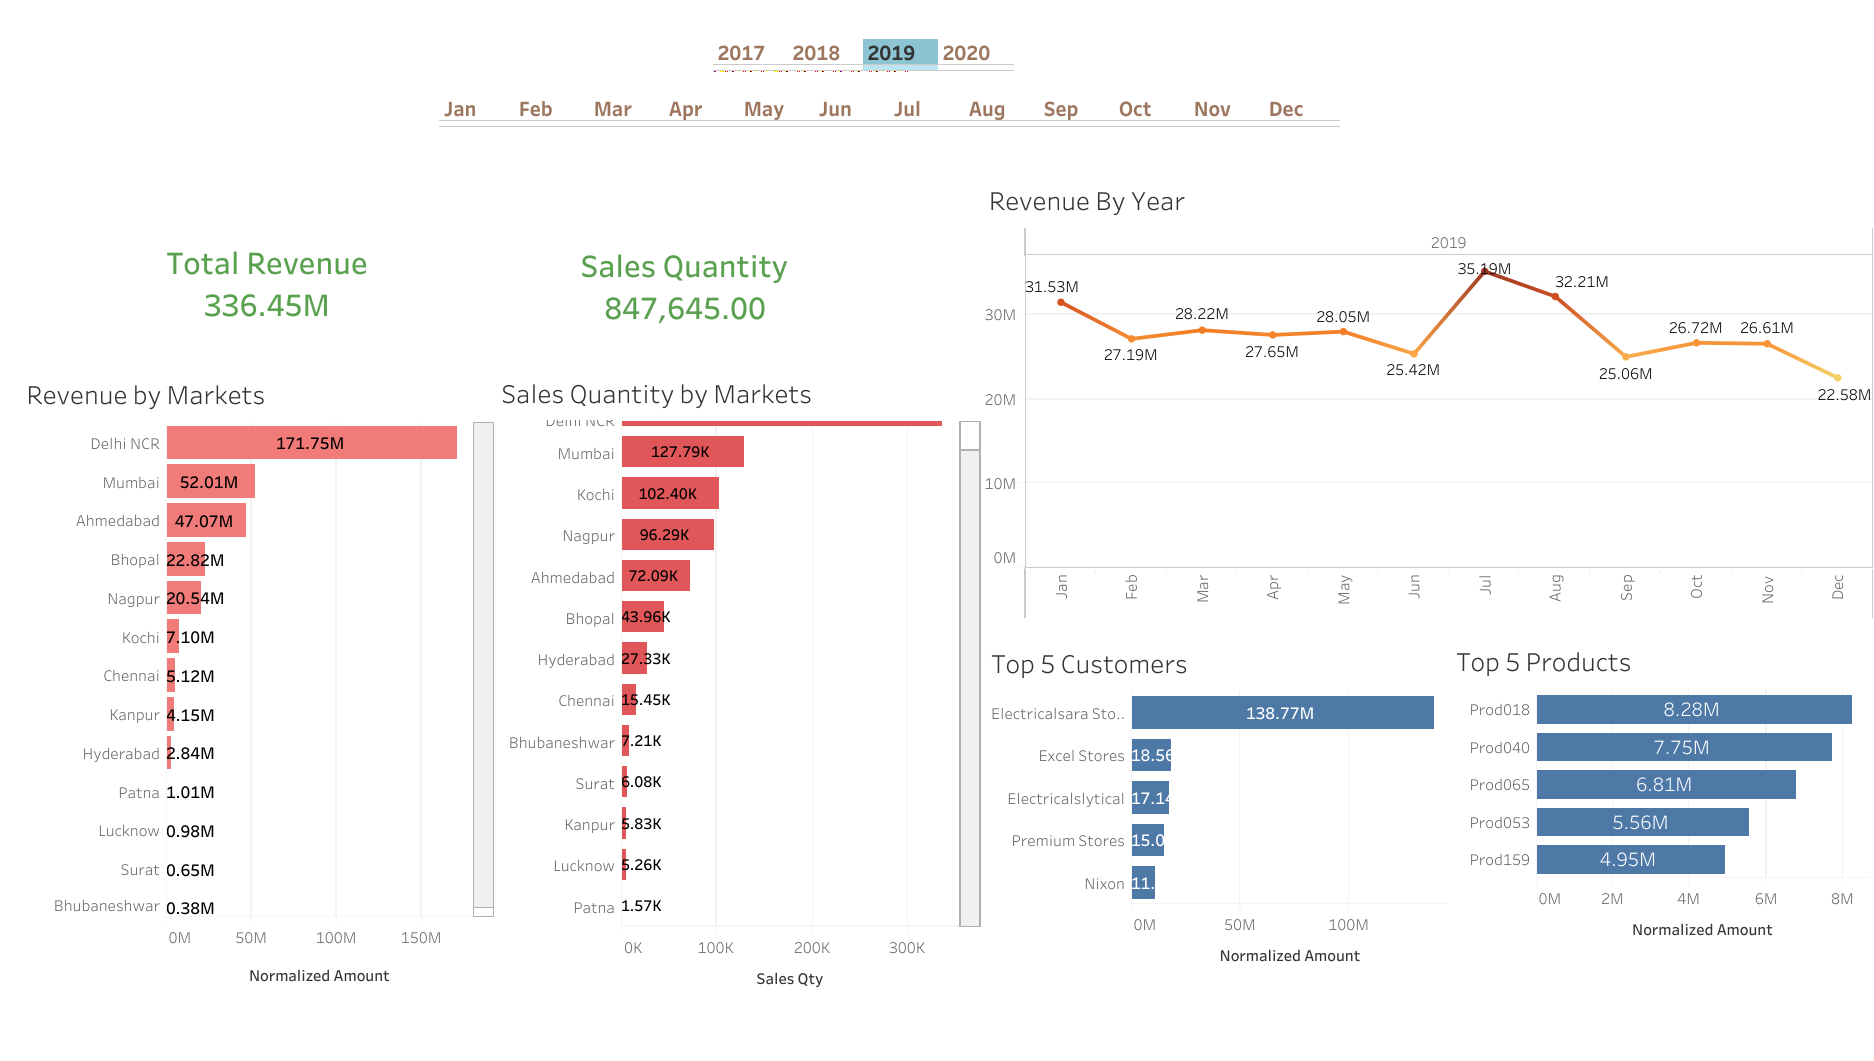

Layout of this report page (visuals, bound fields, positions):
{"tool":"tableau","page":{"name":"Dashboard 1","canvas":[1500,850],"ordinal":0},"visuals":[{"type":"worksheet","title":"Year","mark":"Automatic","cols":["cy_date"],"box":[570,31.2,258,36.8]},{"type":"worksheet","title":"Month","mark":"Automatic","cols":["cy_date"],"box":[351,75.6,730,32.1]},{"type":"worksheet","title":"Revenue By Year","mark":"Automatic","rows":["Calculation_585186488233541632"],"cols":["cy_date","cy_date"],"box":[787,139.8,712,355.1]},{"type":"worksheet","title":"Revenue","mark":"Automatic","box":[124,191.7,238,89.7]},{"type":"worksheet","title":"Quantity","mark":"Automatic","box":[458,193.6,223,84.1]},{"type":"worksheet","title":"Sales Quantity by Markets","mark":"Automatic","rows":["markets_name"],"cols":["sales_qty"],"box":[397,293.7,388,504.3]},{"type":"worksheet","title":"Revenue by Markets","mark":"Automatic","rows":["markets_name"],"cols":["Calculation_585186488233541632"],"box":[17,294.7,379,501.5]},{"type":"worksheet","title":"Top 5 Products","mark":"Automatic","rows":["product_code (products)"],"cols":["Calculation_585186488233541632"],"box":[1161,509.1,334,274.8]},{"type":"worksheet","title":"Top 5 Customers ","mark":"Automatic","rows":["custmer_name"],"cols":["Calculation_585186488233541632"],"box":[789,510,370,274.8]}]}

Visuals, with their boxes in screenshot pixels (x1, y1, x2, y2), scaled from the page's 1500x850 canvas onto the 1874x1061 screenshot:
"Year" worksheet: bbox(712, 39, 1034, 85)
"Month" worksheet: bbox(439, 94, 1351, 134)
"Revenue By Year" worksheet: bbox(983, 175, 1873, 618)
"Revenue" worksheet: bbox(155, 239, 452, 351)
"Quantity" worksheet: bbox(572, 242, 851, 347)
"Sales Quantity by Markets" worksheet: bbox(496, 367, 981, 996)
"Revenue by Markets" worksheet: bbox(21, 368, 495, 994)
"Top 5 Products" worksheet: bbox(1450, 635, 1868, 978)
"Top 5 Customers " worksheet: bbox(986, 637, 1448, 980)
